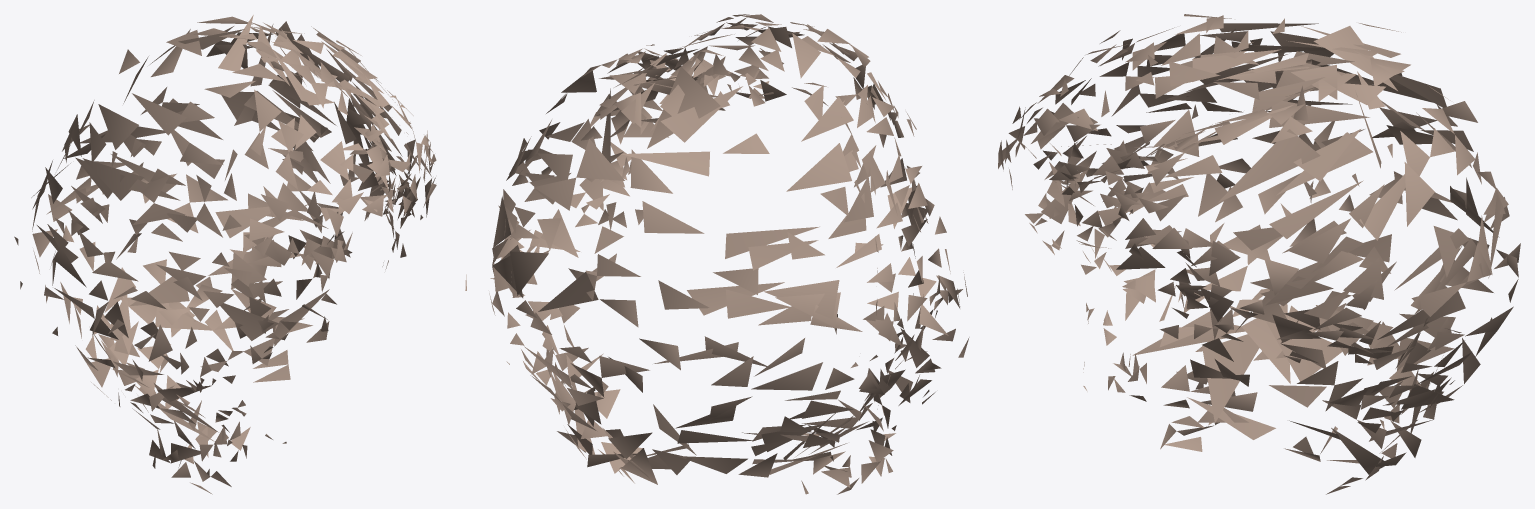
File: female_hair_04_lod2.glb
3 views of the same model, side by side, from view 1: azimuth 30°, elevation 25°; view 2: azimuth 150°, elevation 25°; view 3: azimuth 270°, elevation 25° (orthographic). The views are drawn at different scales.
Parts seen in each view (by area): view 1: female-hair-04; view 2: female-hair-04; view 3: female-hair-04.
Boxes of the visible parts, box(x1,y1,x2,y2) form: female-hair-04: box(14, 15, 436, 494); female-hair-04: box(465, 14, 969, 494); female-hair-04: box(998, 14, 1520, 494).
Size of the model in its own units: 0.221 by 0.2452 by 0.2458.
